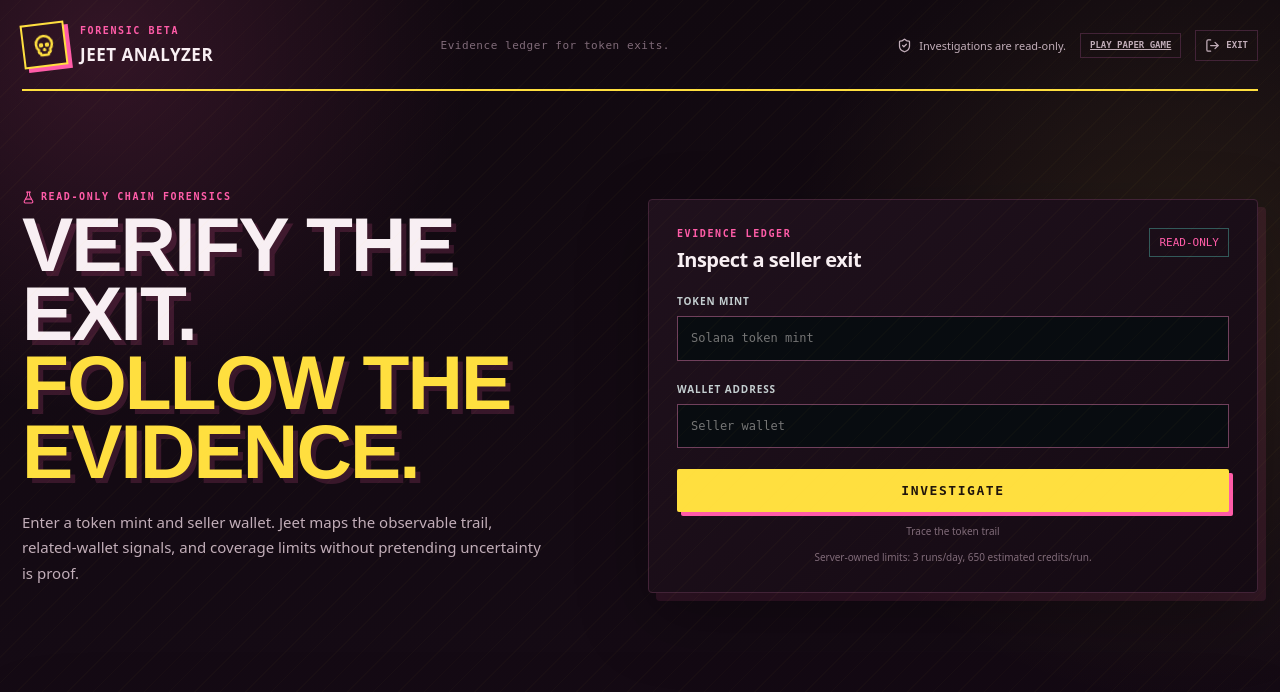
invite-only beta experience › copies only the explicit safe report and records completed-run feedback
The image size is (1280, 692).
Type "11111111111111111111111111111111" into the field labelled "Token mint".
click(953, 338); type("11111111111111111111111111111111")  # box [677,316,1229,360]
Type "4vJ9JU1bJJE96FWSJKvHsmmF5xmD3e3shZV4L6jH4b5" into the field labelled "Wallet address".
click(953, 426); type("4vJ9JU1bJJE96FWSJKvHsmmF5xmD3e3shZV4L6jH4b5")  # box [677,404,1229,448]
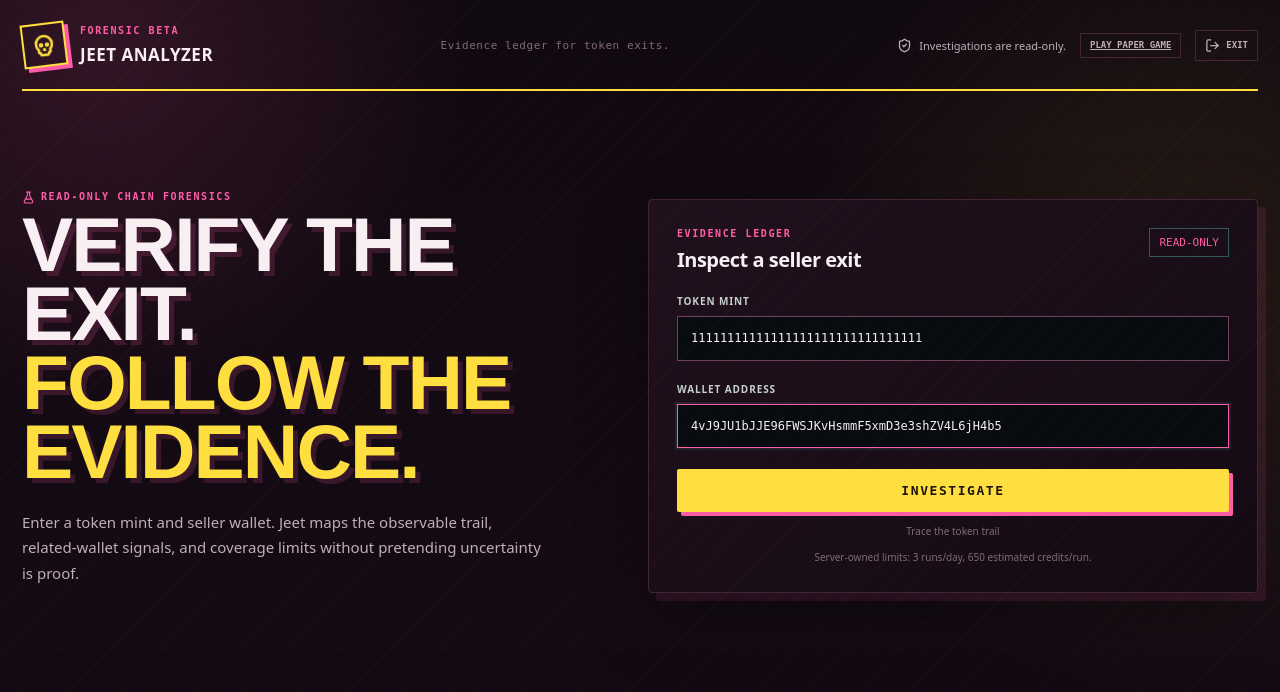
Click the button "INVESTIGATE".
click(953, 490)  # box [677,469,1229,512]
(page scrolled)
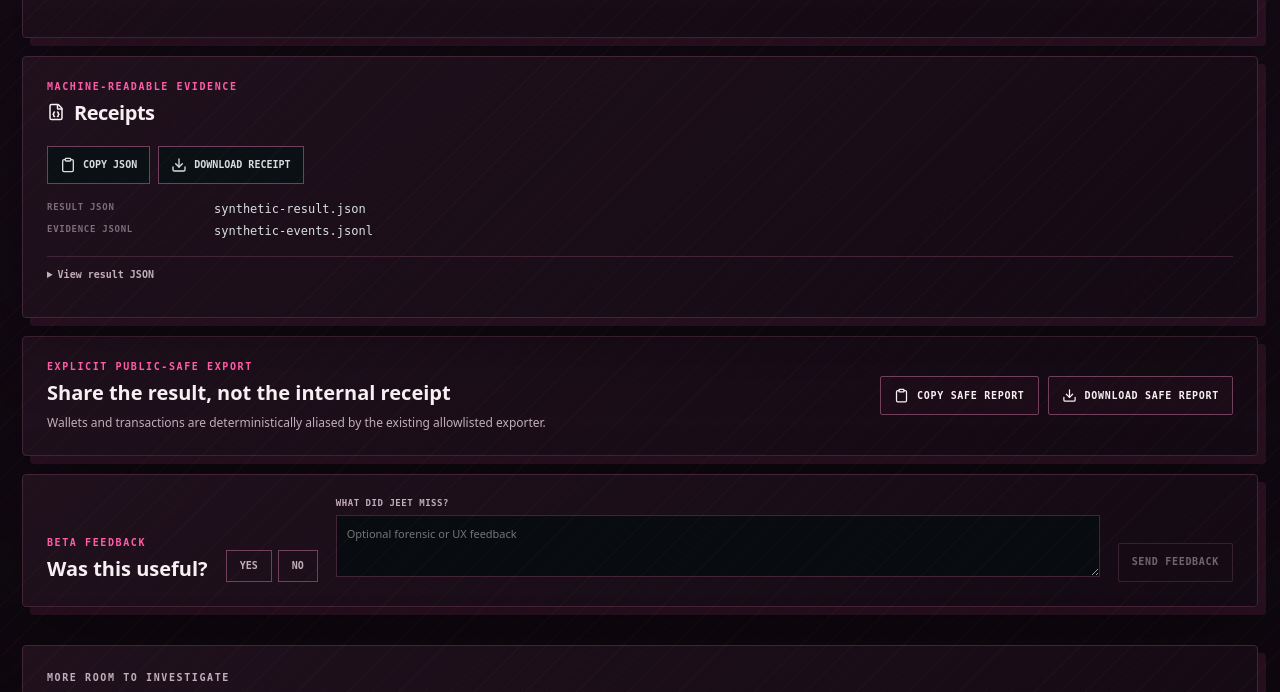
Click the button "COPY SAFE REPORT".
click(959, 396)  # box [880,376,1038,415]
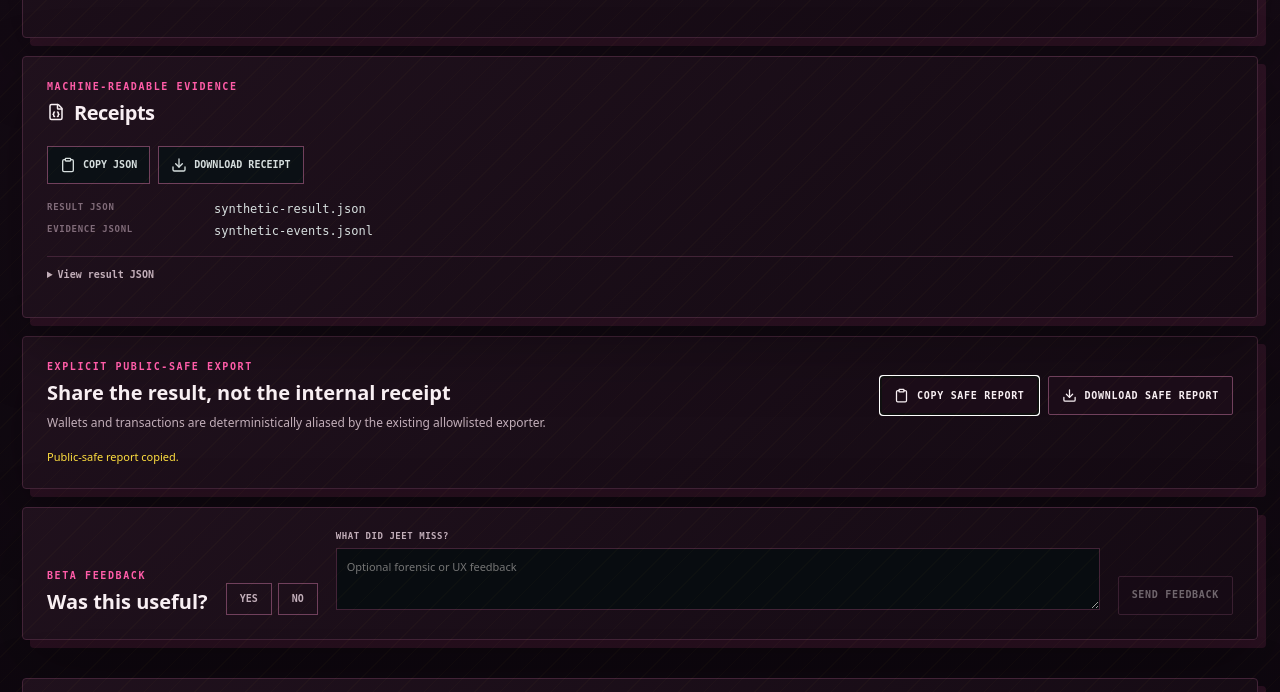
Expected: the text "Public-safe report copied." is shown, [47,449,179,464]
Click the button "YES".
click(249, 599)  # box [226,583,272,615]
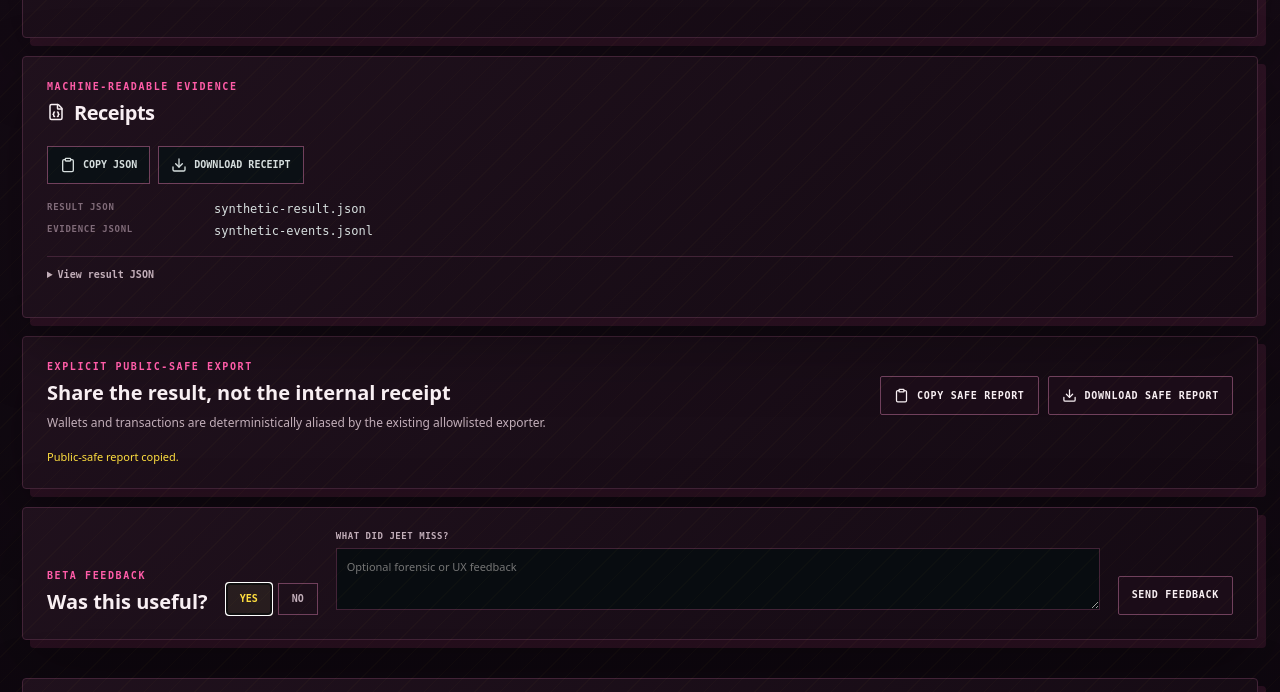
Type "Nothing obvious." into the text box labelled "What did Jeet miss?".
click(718, 579); type("Nothing obvious.")  # box [336,548,1100,610]
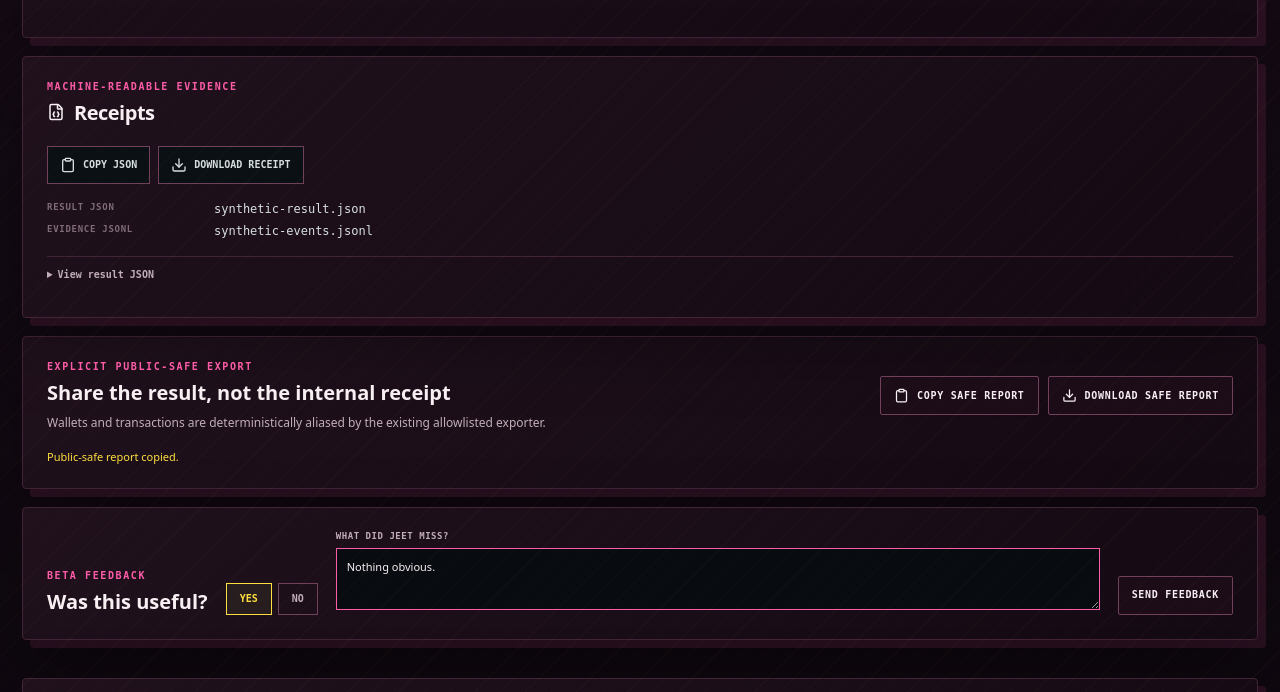
Click the button "SEND FEEDBACK".
click(1175, 595)  # box [1118,576,1233,615]
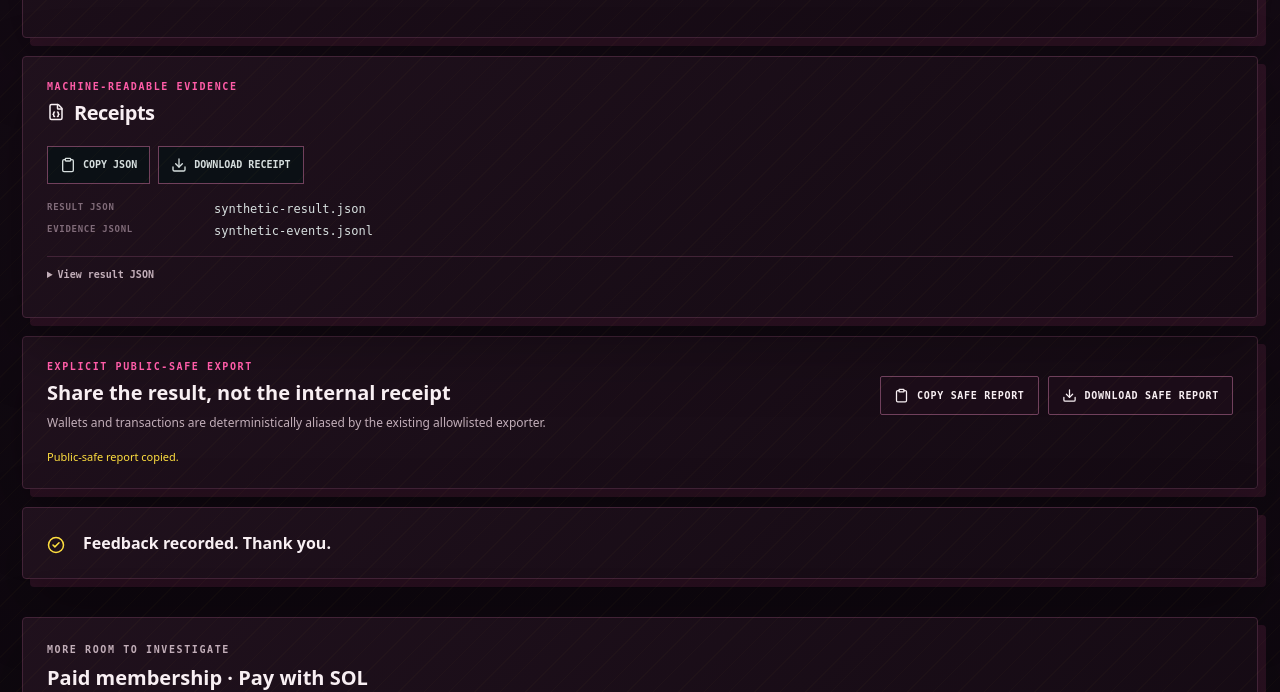
Expected: the text "Feedback recorded. Thank you." is shown, [83,532,331,554]
